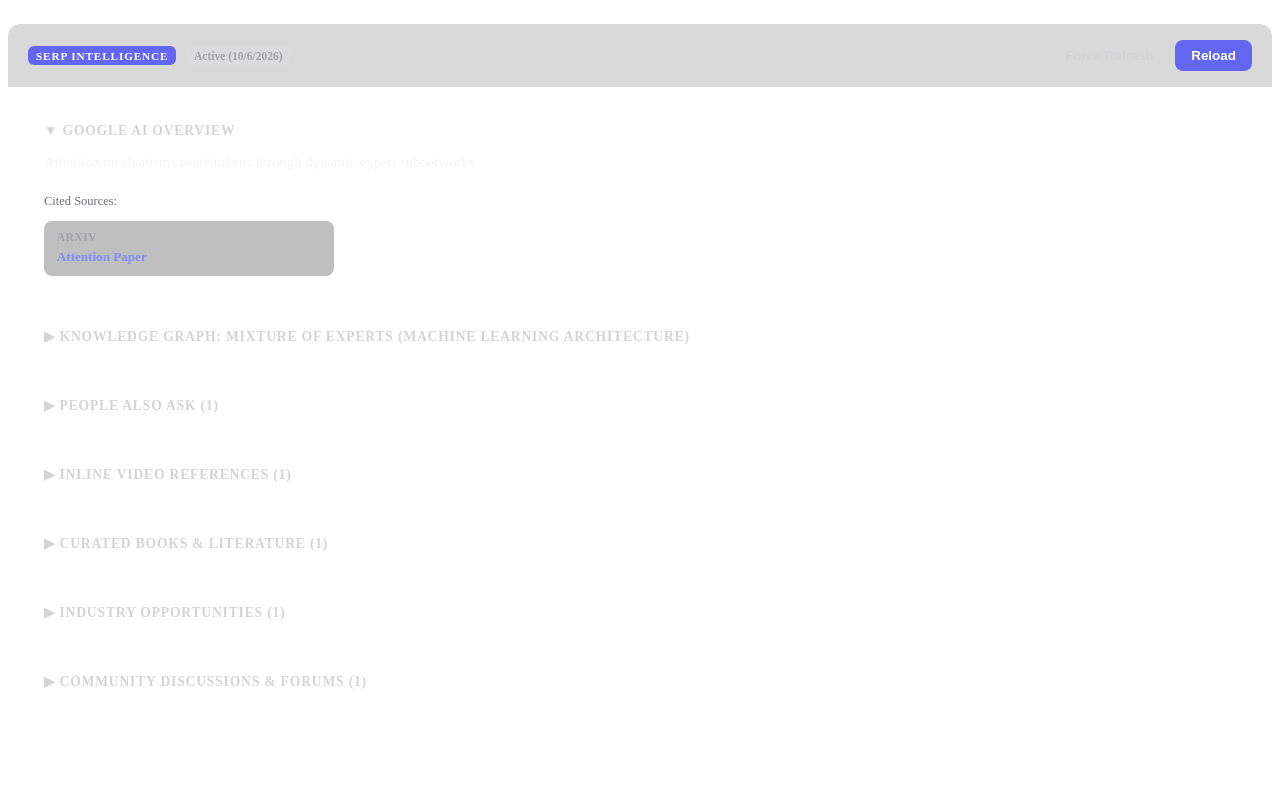
it: IntelligencePanel component (Hermetic) › toggles section accordion expansion and updates aria-expanded (Finding R1)
This screenshot has width=1280, height=800.
// Click to collapse
Click the button "▼ Google AI Overview" at (147, 130), box [44, 123, 1236, 139]
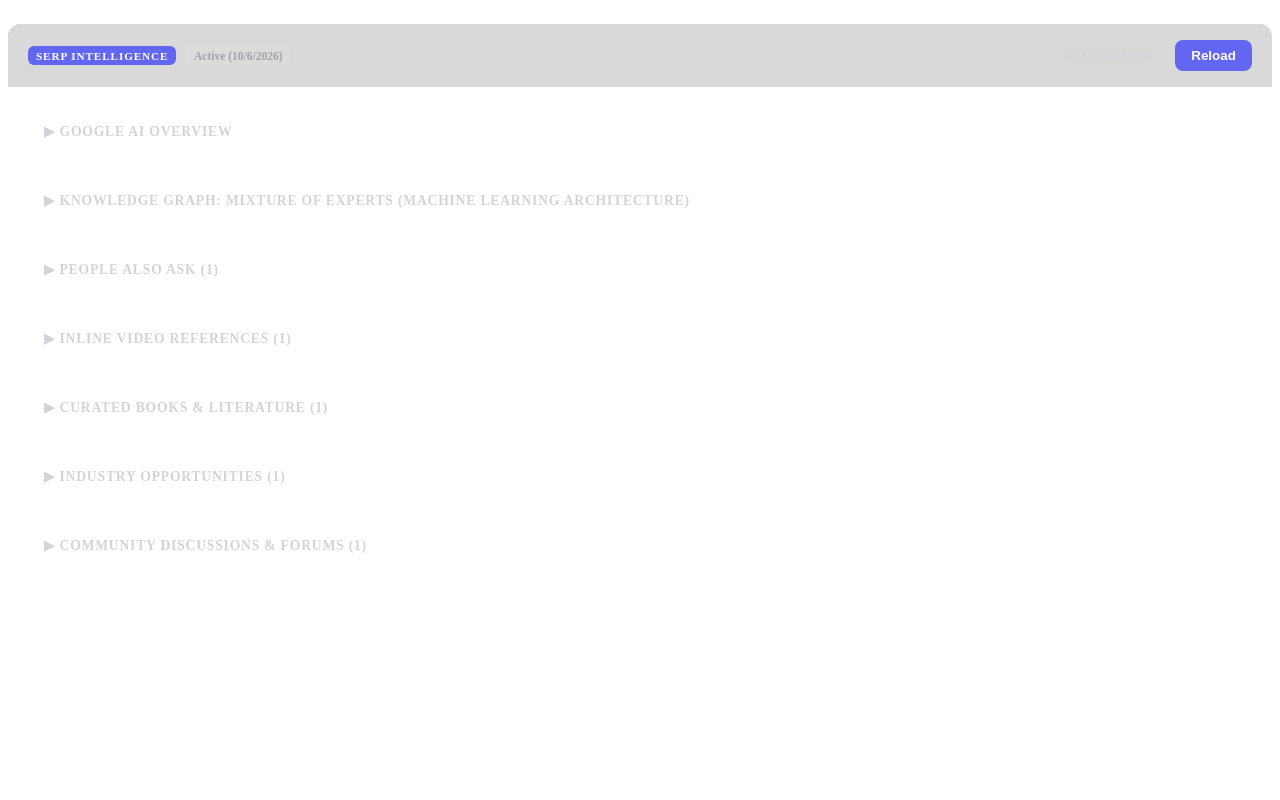
Expected: the text "Attention mechanisms route tokens" is not shown
Result: the button "▶ Google AI Overview" is collapsed
// Click to re-open
Click the button "▶ Google AI Overview" at (144, 132), box [44, 123, 1236, 140]
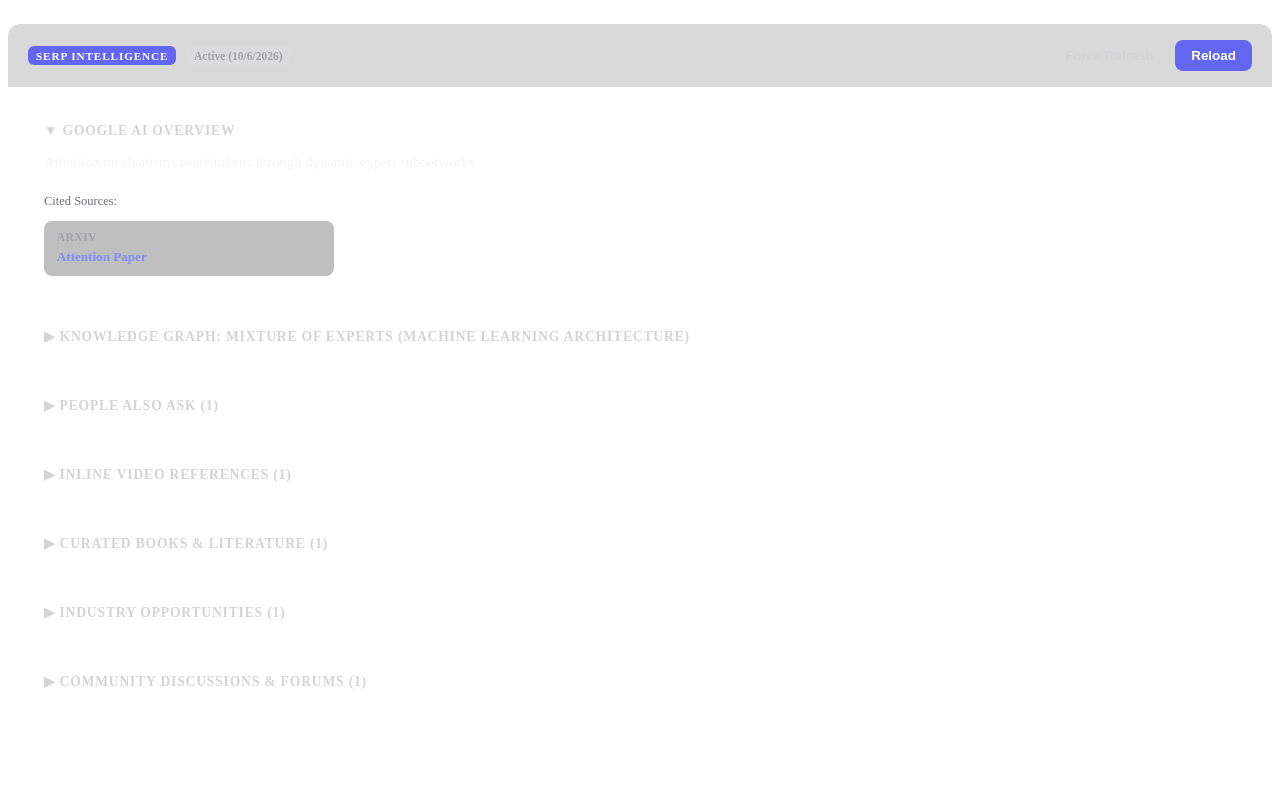
Result: the button "▼ Google AI Overview" is expanded at [44, 123, 1236, 139]
